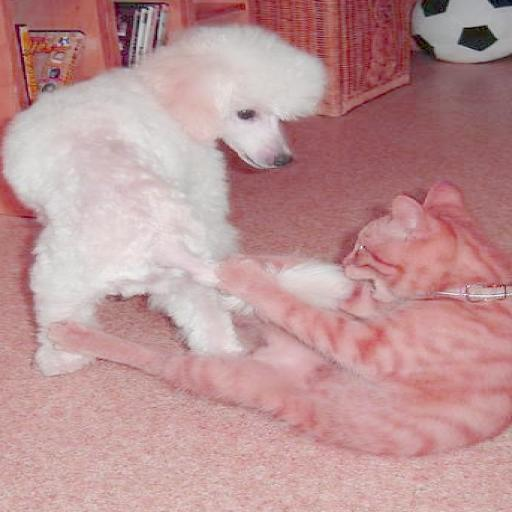dog_face: (148, 32, 330, 166)
